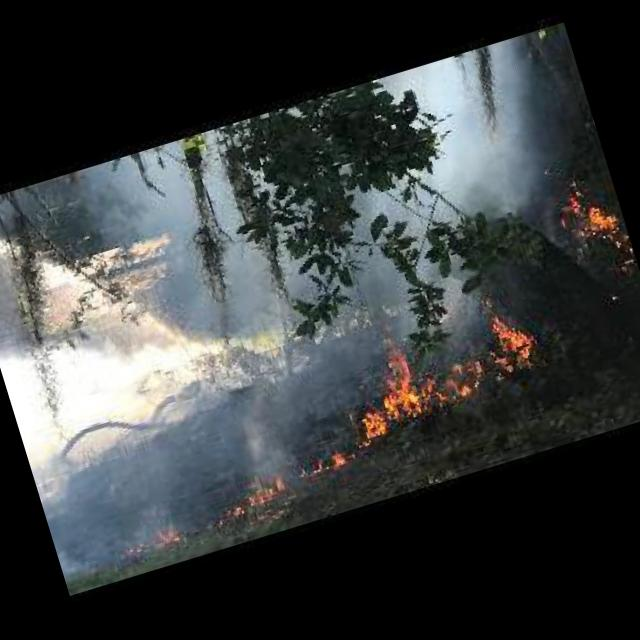fire: (332, 302, 550, 449), (548, 167, 636, 280), (212, 471, 287, 524), (114, 517, 186, 563), (295, 442, 349, 481)
